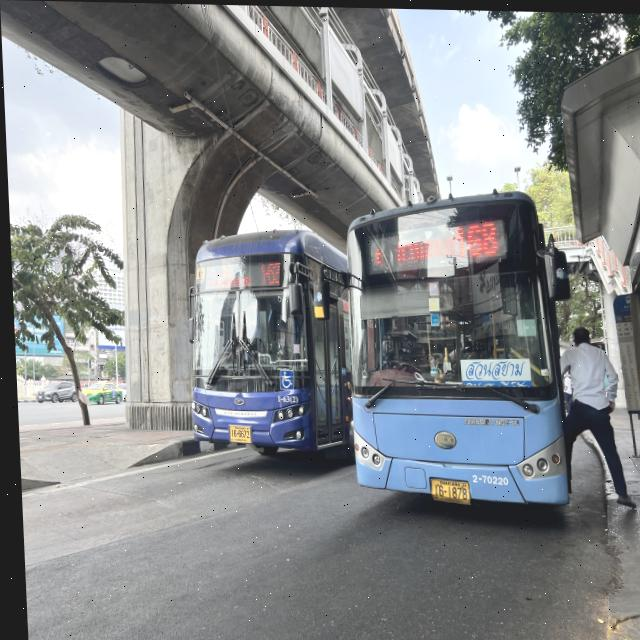BMTA-bus: (337, 189, 570, 510)
Bus-Line-Number: (451, 215, 498, 255), (256, 258, 281, 287)
Destination-Sign-Normal: (458, 357, 528, 386), (202, 264, 251, 288)
TSB-Bus: (182, 227, 353, 461)
